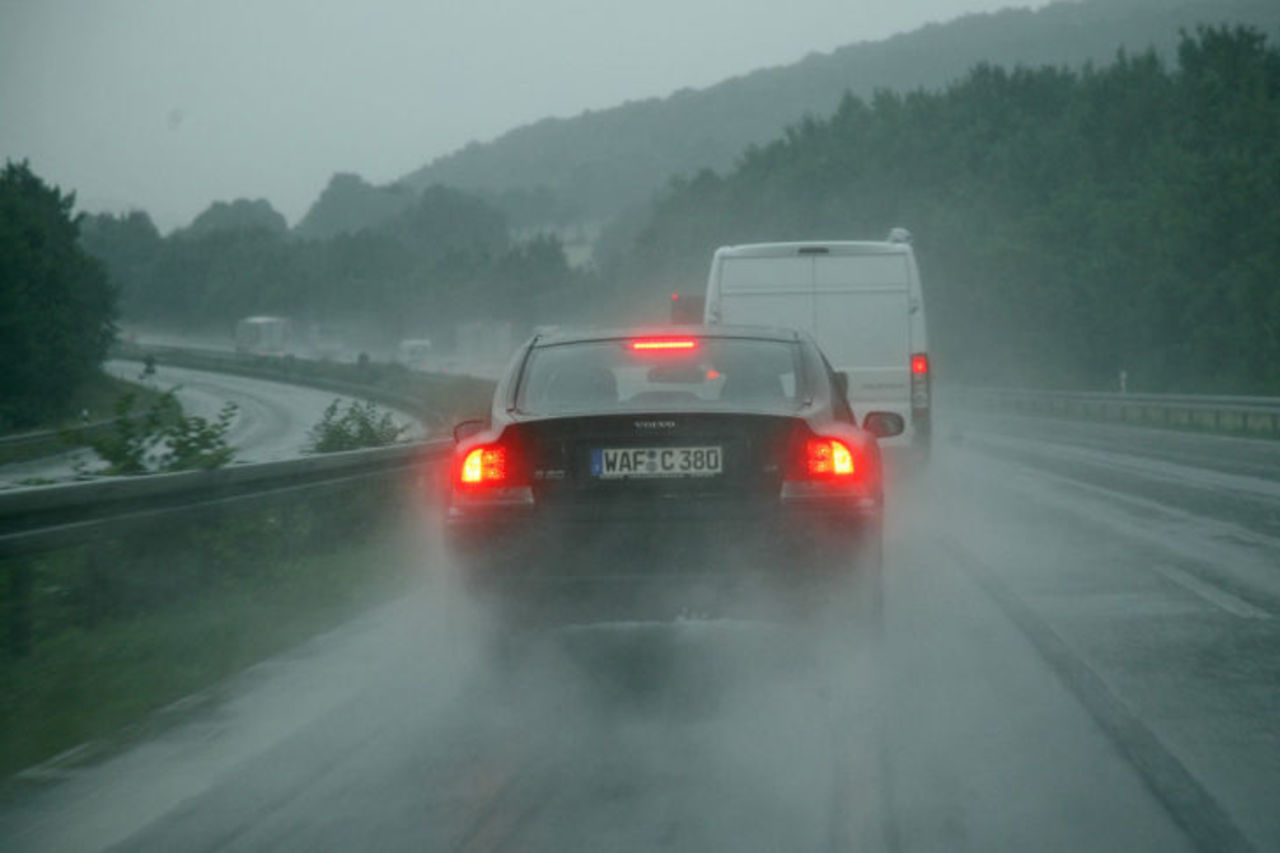car: (455, 329, 898, 703), (702, 233, 935, 493)
truck: (230, 311, 286, 358), (449, 323, 508, 364), (302, 320, 343, 360), (396, 337, 431, 373)
